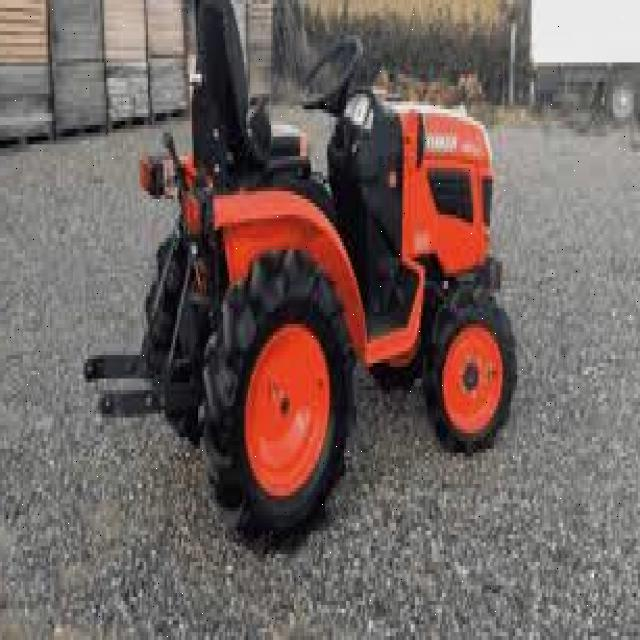Tratores - v5 YOLO V8L 2024-11-13: (153, 6, 528, 562)
